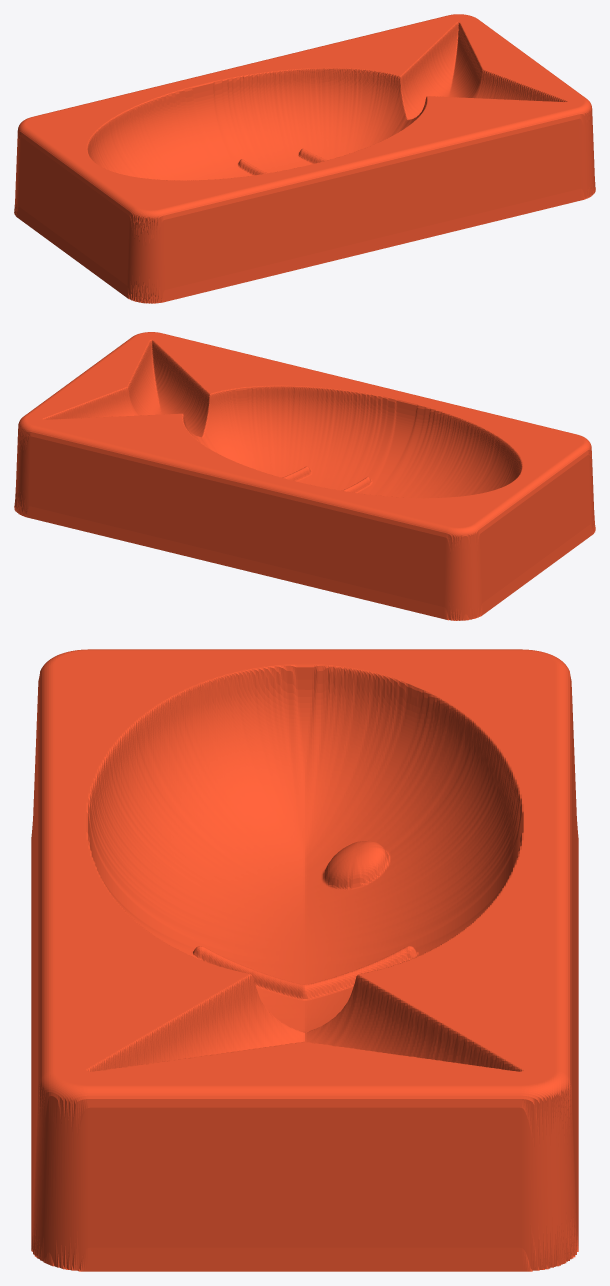
The model's file is mold.glb.
3 views of the same model, one above another, from view 1: azimuth 30°, elevation 25°; view 2: azimuth 150°, elevation 25°; view 3: azimuth 270°, elevation 25° (orthographic). The views are drawn at different scales.
Parts seen in each view (by area): view 1: geometry_0; view 2: geometry_0; view 3: geometry_0.
Part boxes in pixels (box(x1,y1,x2,y2)): geometry_0: box(14, 14, 595, 303); geometry_0: box(14, 332, 595, 620); geometry_0: box(31, 649, 578, 1271).
Bounding box in the file's own units: 0.1709 × 0.031 × 0.0871.
